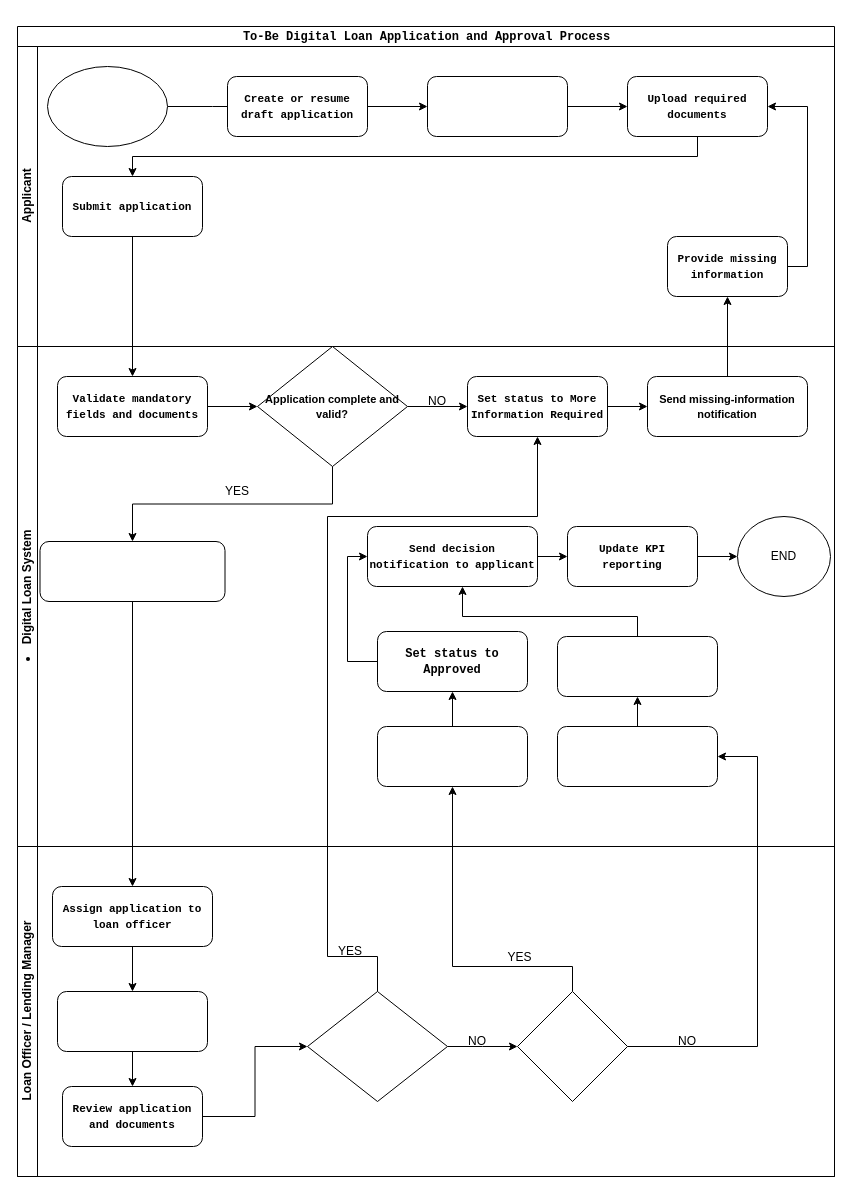
The diagram is 852 pixels wide and 1194 high, and some of its shapes have lost their labels. The centre of each missing label's shape, as x and y in pixels:
"Additional information required?" goes at pixel 377 1046.
"Approve application?" goes at pixel 572 1046.
"Complete application details" goes at pixel 497 106.
"Generate application ID and set status to Submitted" goes at pixel 132 571.
"Record approval decision and audit history" goes at pixel 452 756.
"Record decline decision and audit history" goes at pixel 637 756.
"Set status to Declined" goes at pixel 637 666.
"Start" goes at pixel 107 106.
"View assigned queue" goes at pixel 132 1021.
